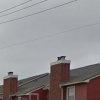Chimney: (44, 48, 76, 86)
